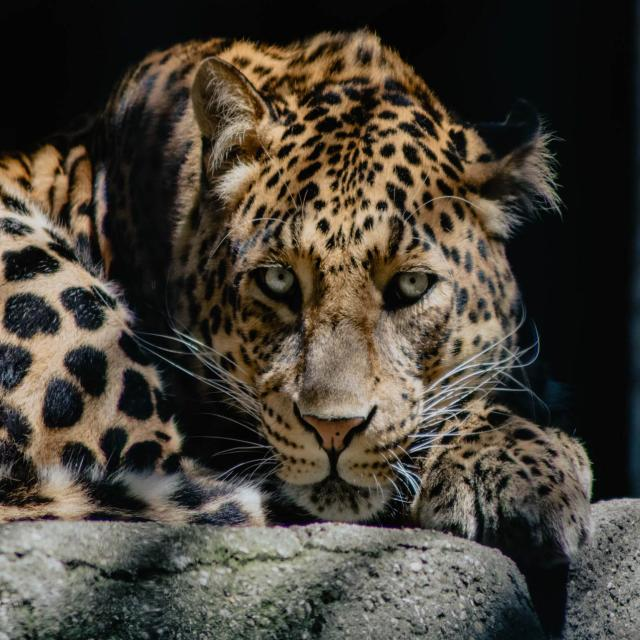Leopard: (7, 31, 589, 547)
